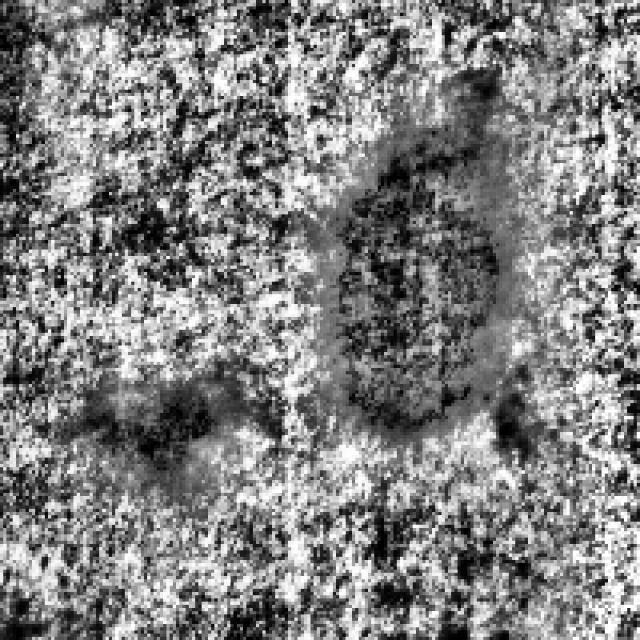Scratches: (307, 99, 515, 451), (61, 374, 228, 486)
